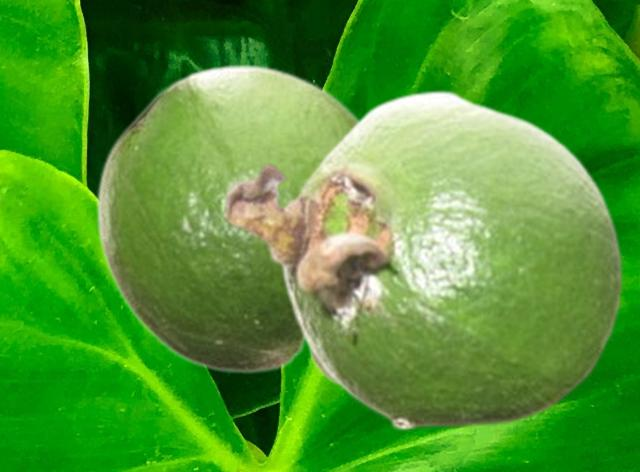guava: (222, 88, 625, 430), (94, 62, 357, 384)
